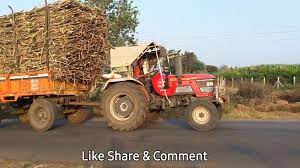wheel: (104, 86, 143, 131), (186, 99, 218, 133), (28, 99, 53, 132)
